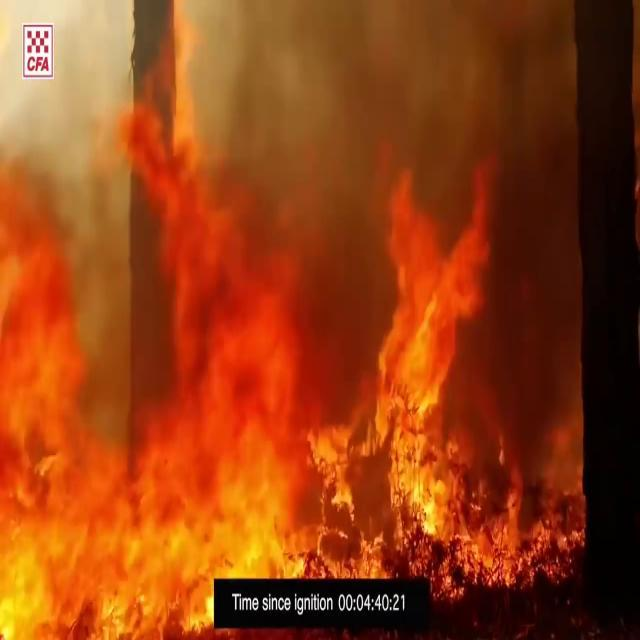Fire: (0, 127, 572, 624)
